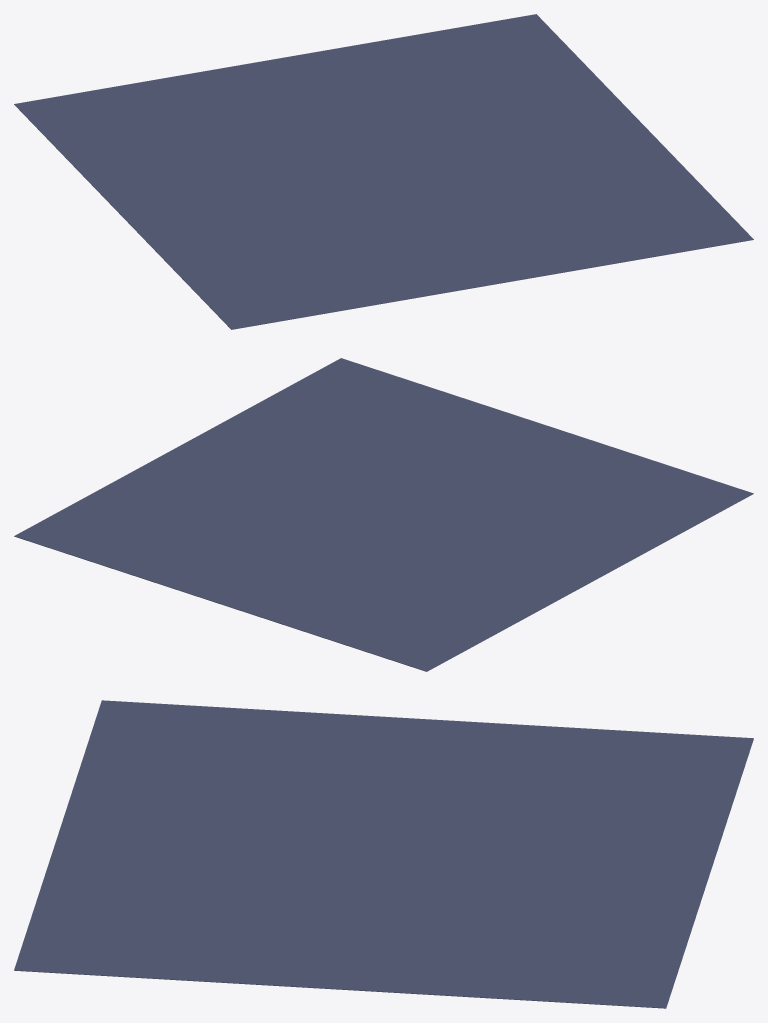
Rendered from nd_pitch_94482815.glb.
The picture shows the model from 3 angles, top to bottom: view 1: azimuth 30°, elevation 25°; view 2: azimuth 150°, elevation 25°; view 3: azimuth 270°, elevation 25°; orthographic projection. The views are drawn at different scales.
Parts seen in each view (by area): view 1: nd_pitch_94482815_lod0; view 2: nd_pitch_94482815_lod0; view 3: nd_pitch_94482815_lod0.
Boxes of the visible parts, bbox=[...] form: nd_pitch_94482815_lod0: bbox=[14, 14, 753, 329]; nd_pitch_94482815_lod0: bbox=[14, 358, 753, 671]; nd_pitch_94482815_lod0: bbox=[14, 700, 753, 1008].
Size of what is drawn, in the model's own units: 91.73 by 0.1024 by 93.18.
